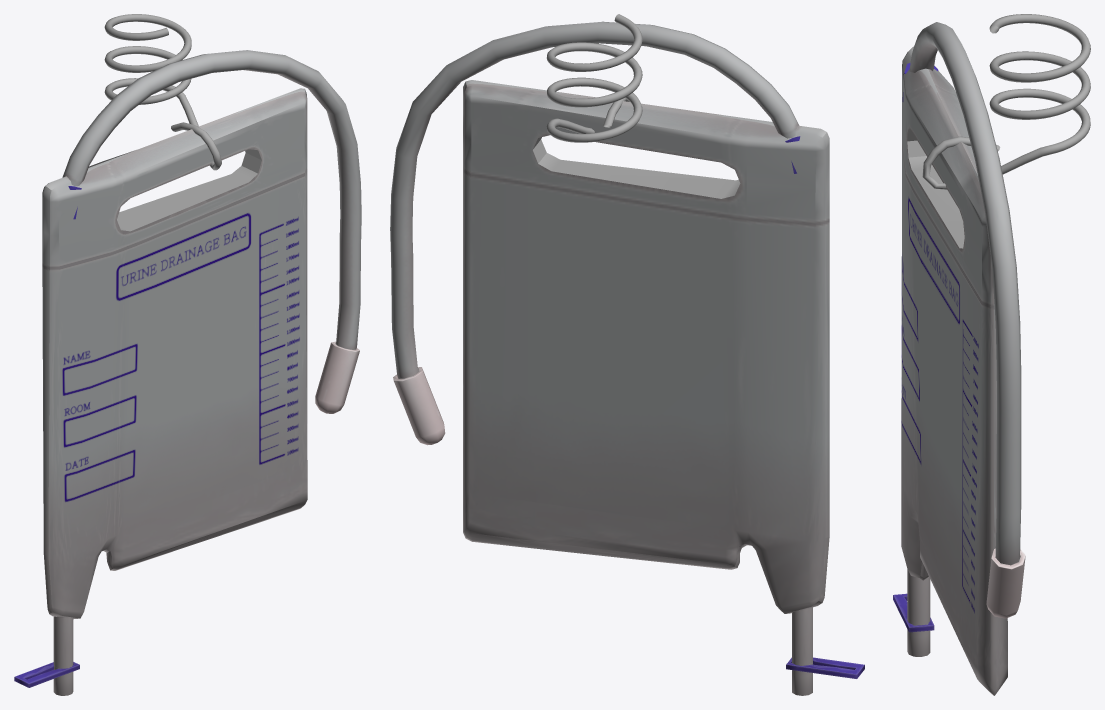
Rendered from Urinbag_Bed.fbx.
3 renders of one model, left to right at view 1: azimuth 30°, elevation 25°; view 2: azimuth 150°, elevation 25°; view 3: azimuth 270°, elevation 25°, orthographic. The views are drawn at different scales.
Visible parts, largest first — view 1: UrinBga_Bed; view 2: UrinBga_Bed; view 3: UrinBga_Bed.
Boxes of the visible parts, left/top/right/bottom form: UrinBga_Bed: left=14, top=14, right=361, bottom=695; UrinBga_Bed: left=390, top=14, right=864, bottom=695; UrinBga_Bed: left=893, top=14, right=1090, bottom=695.
Size of the model in its own units: 24.7 by 37.2 by 9.48.
